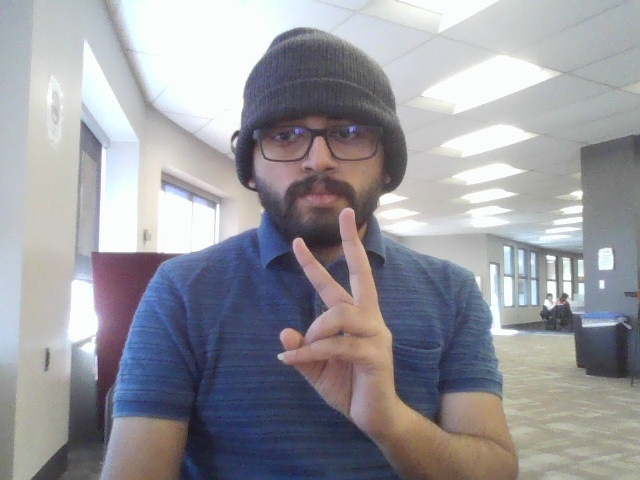start: (263, 211, 432, 434)
